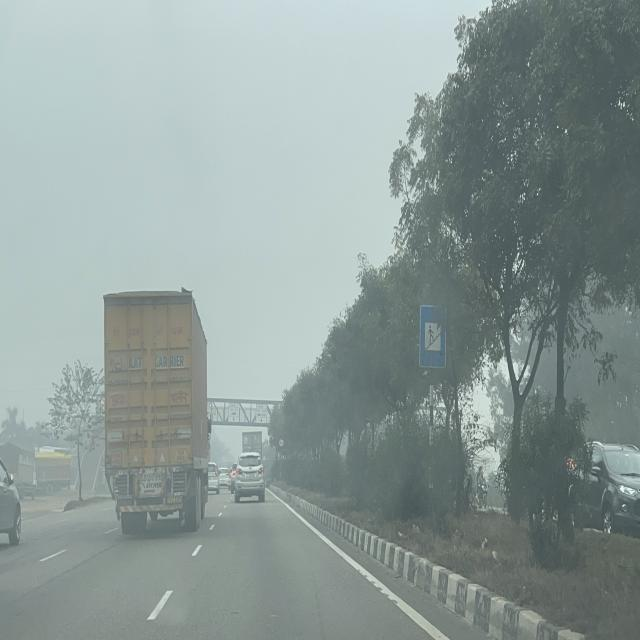INFORMATION: (418, 304, 448, 371)
